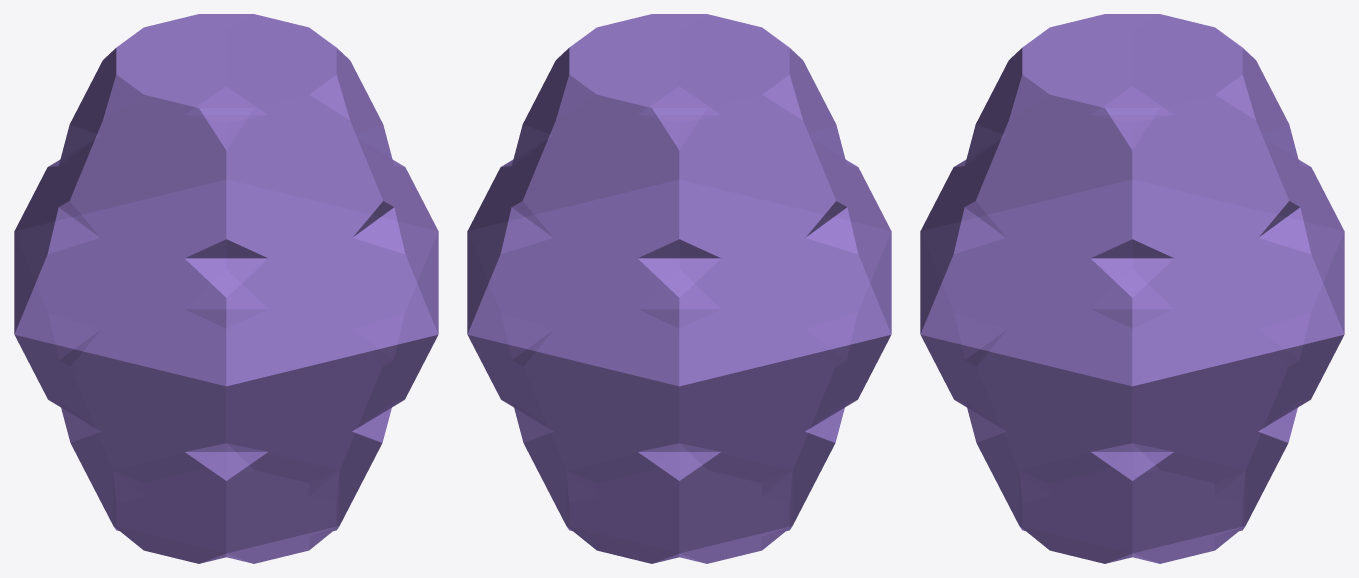
File: GemC.fbx
The picture shows the model from 3 angles, left to right: view 1: azimuth 30°, elevation 25°; view 2: azimuth 150°, elevation 25°; view 3: azimuth 270°, elevation 25°; orthographic projection.
Visible parts, largest first — view 1: GemC; view 2: GemC; view 3: GemC.
Boxes of the visible parts, left/top/right/bottom form: GemC: left=14, top=14, right=438, bottom=563; GemC: left=467, top=14, right=891, bottom=563; GemC: left=920, top=14, right=1344, bottom=563.
Bounding box in the file's own units: 6 × 6.16 × 5.2.
